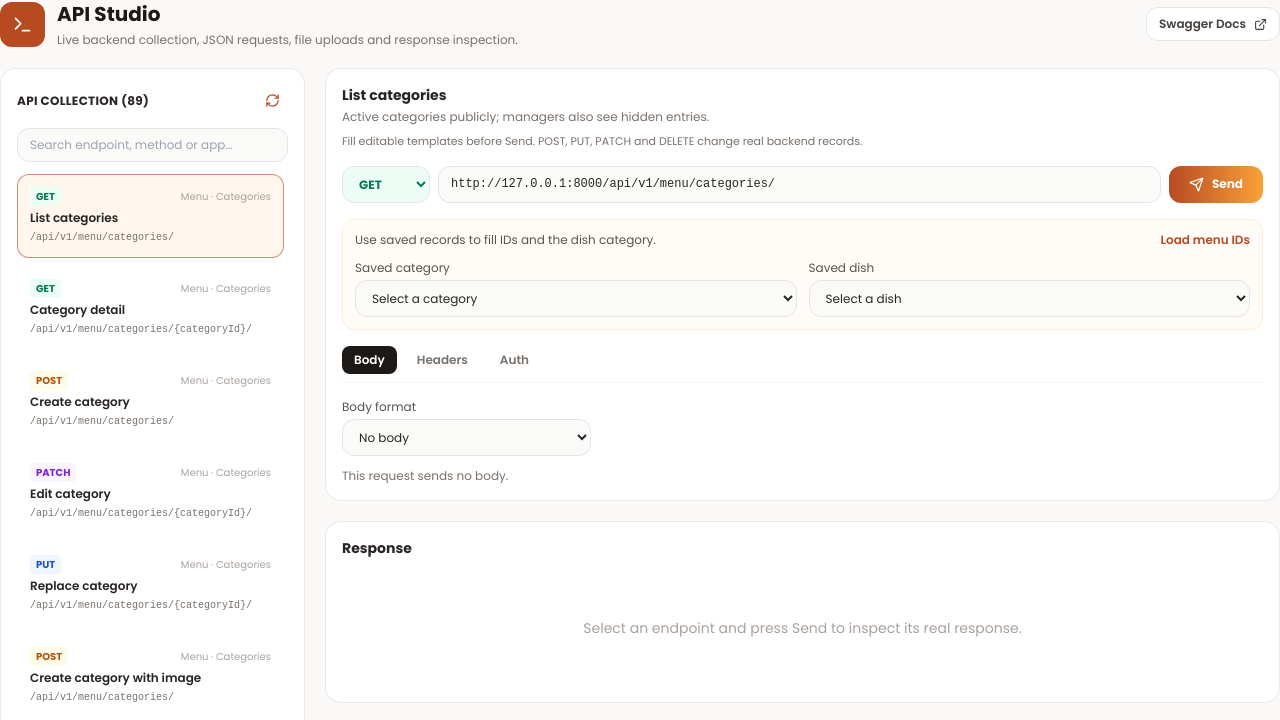
admin API tester › cancels a pending request and restores Send without showing a successful response
Click the button "Send" at point(1216, 184), box x1=1169 y1=166 x2=1263 y2=202
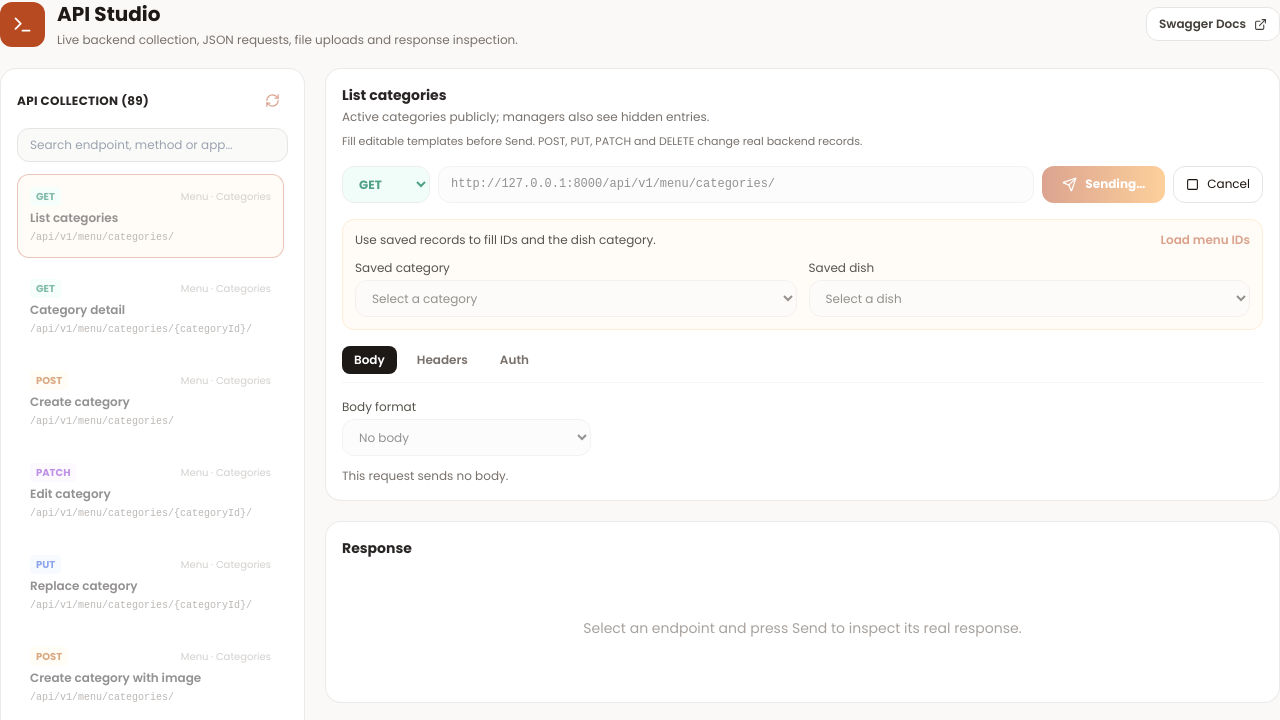
Click the button "Cancel" at point(1218, 184), box x1=1173 y1=166 x2=1263 y2=202
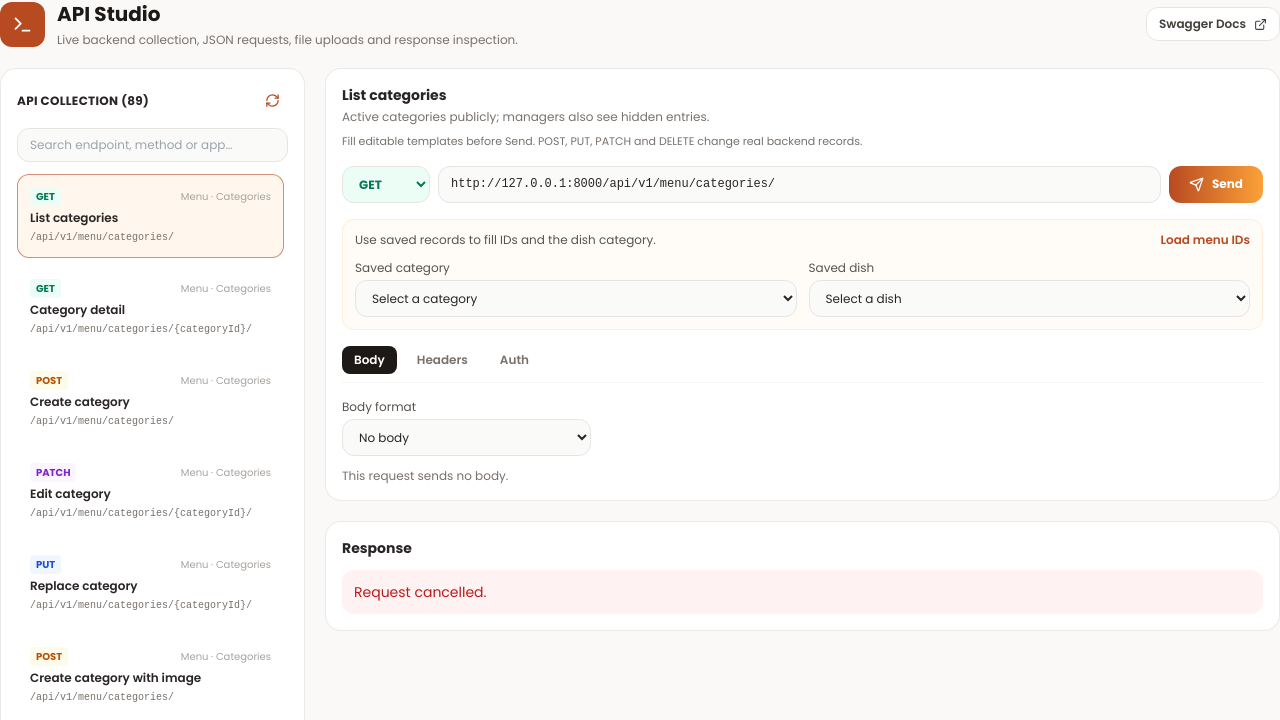
Result: the message shows "Request cancelled" at x1=354 y1=582 x2=486 y2=602
Result: the button "Send" is enabled at x1=1169 y1=166 x2=1263 y2=202
